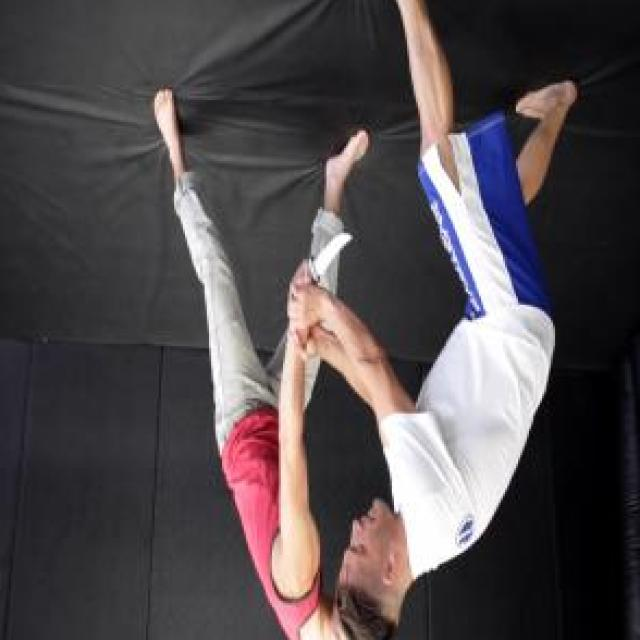knife: (285, 228, 358, 292)
